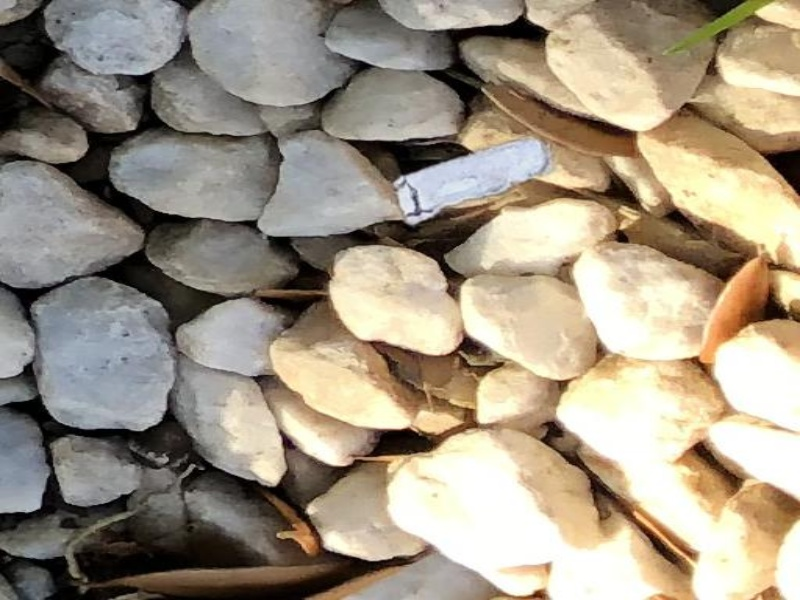cig: (392, 141, 557, 214)
